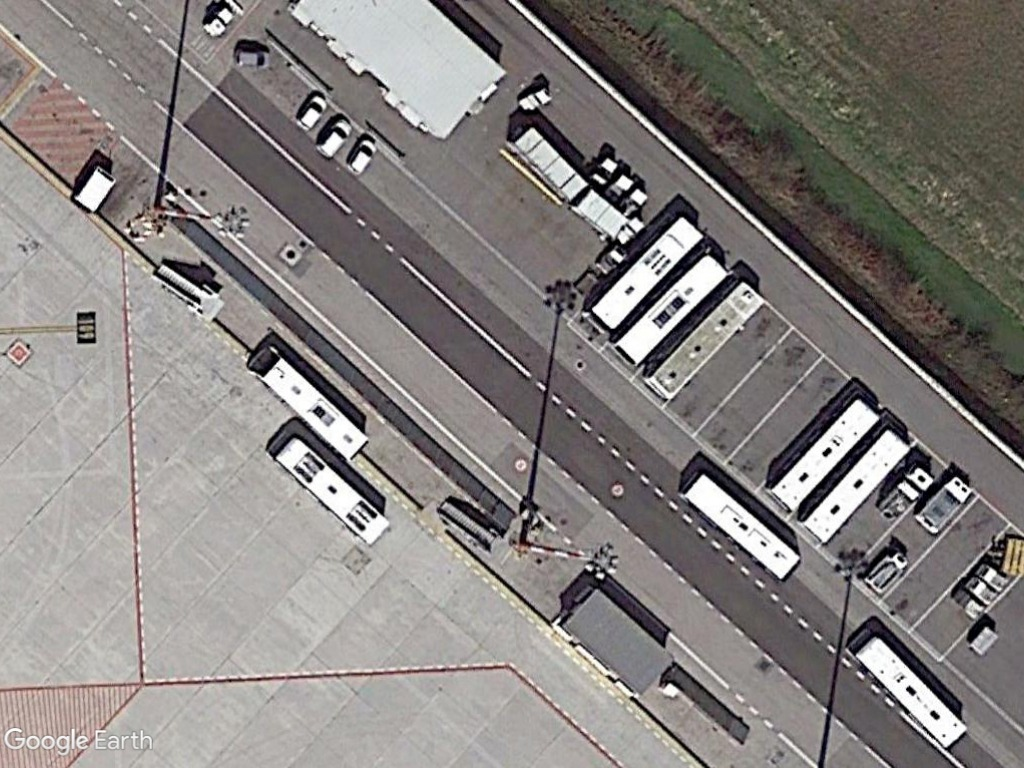bus: (838, 620, 971, 757), (640, 277, 773, 408), (262, 426, 397, 552), (580, 208, 711, 337), (246, 337, 373, 464), (677, 460, 804, 583), (793, 429, 923, 549), (762, 394, 889, 516), (610, 248, 736, 367)
car: (312, 116, 355, 162), (293, 91, 333, 135), (344, 137, 381, 178), (232, 42, 275, 72)
stairtruck: (434, 496, 512, 561), (149, 260, 227, 324)
